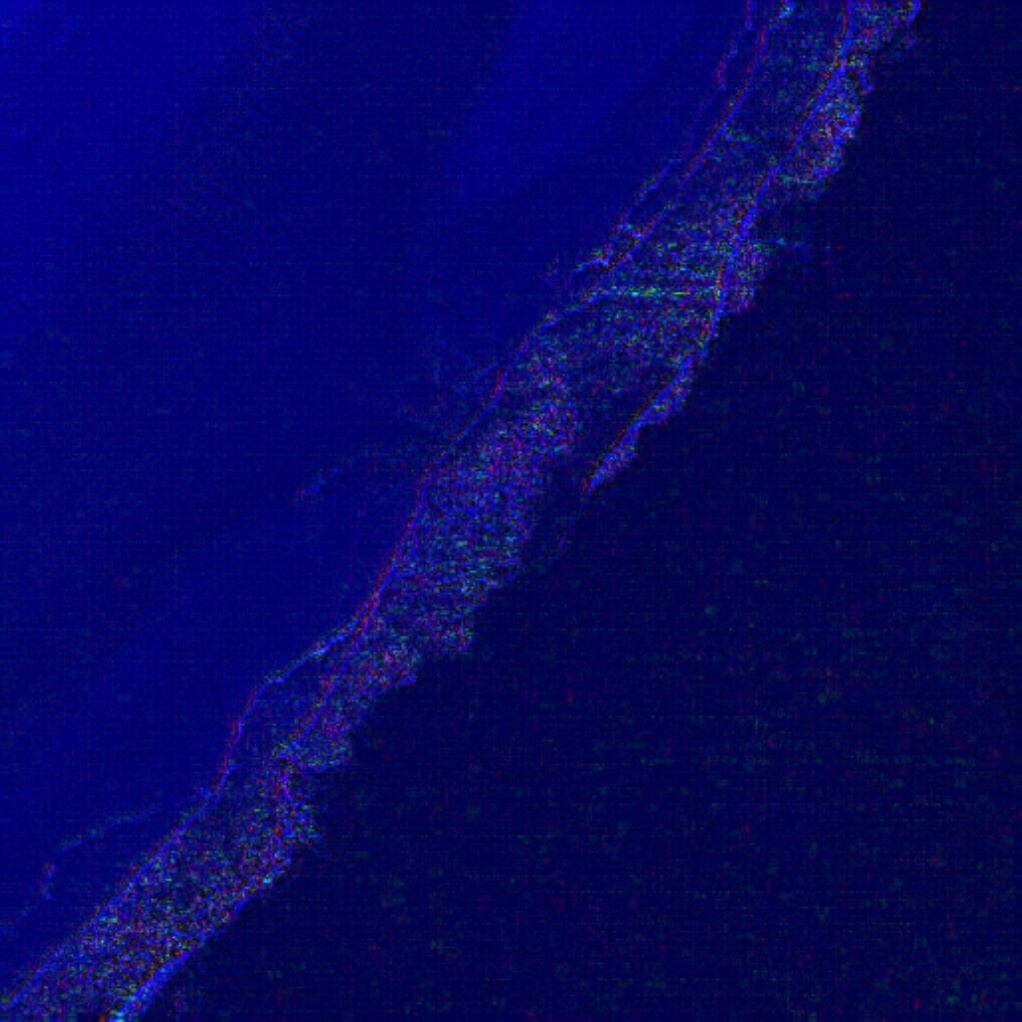rip_current: (354, 365, 736, 534)
